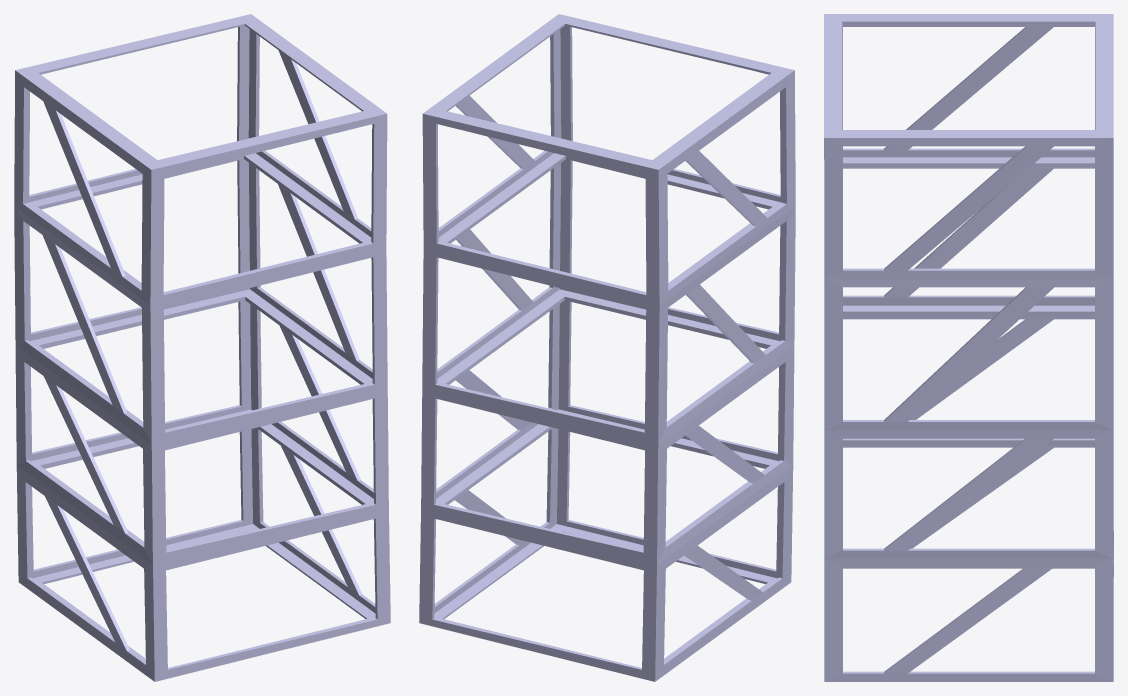
The model's file is StageSupport.fbx.
The picture shows the model from 3 angles, left to right: view 1: azimuth 30°, elevation 25°; view 2: azimuth 150°, elevation 25°; view 3: azimuth 270°, elevation 25°; orthographic projection. The views are drawn at different scales.
Visible parts, largest first — view 1: Cube.003; view 2: Cube.003; view 3: Cube.003.
Part boxes in pixels (x1=…): Cube.003: x1=14, y1=14, x2=390, y2=681; Cube.003: x1=419, y1=14, x2=795, y2=681; Cube.003: x1=824, y1=14, x2=1113, y2=681.
Size of the model in its own units: 96.61 by 197 by 94.85.
